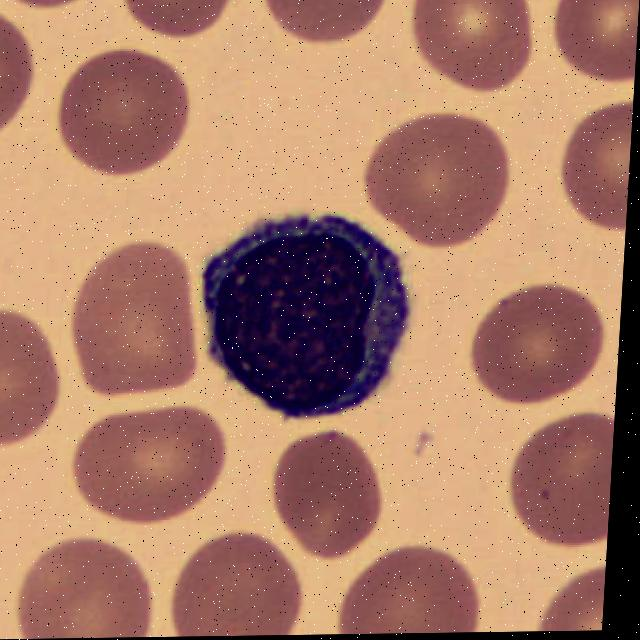lymphocyte: (198, 204, 416, 420)
rbc: (74, 240, 215, 390), (69, 409, 235, 523), (363, 117, 515, 235), (460, 289, 614, 404), (264, 426, 396, 557), (500, 413, 615, 548), (49, 56, 182, 169), (12, 542, 163, 639), (337, 546, 489, 634), (168, 540, 304, 637), (401, 0, 528, 91), (0, 310, 61, 450), (564, 109, 633, 222), (545, 0, 640, 80), (120, 0, 245, 46), (0, 0, 39, 143), (264, 0, 380, 44), (532, 571, 606, 632), (3, 0, 86, 11), (73, 388, 75, 393)
